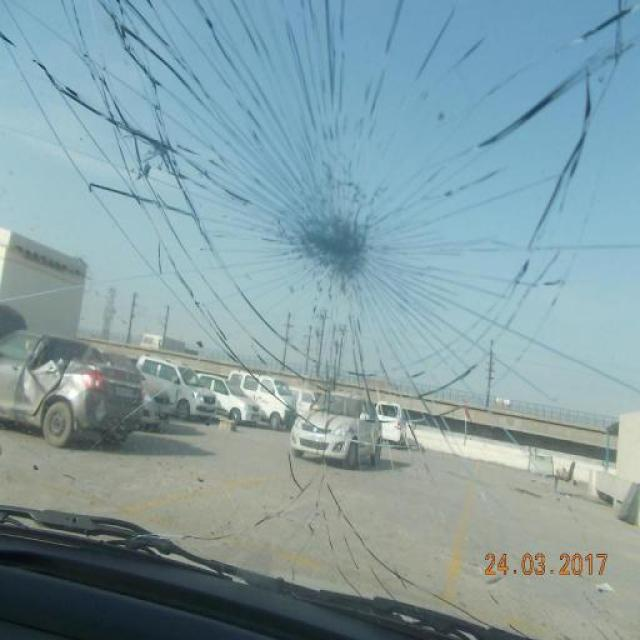crack: (0, 0, 640, 433)
